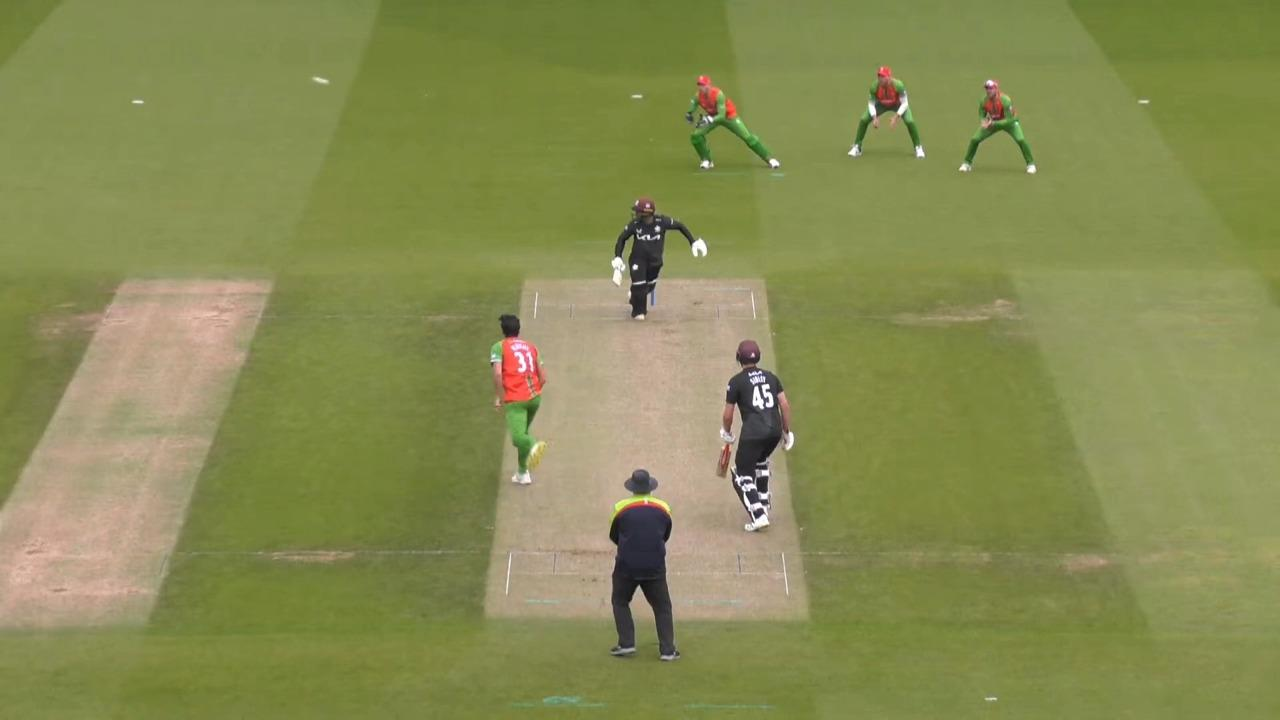sports ball: (312, 75, 331, 86)
